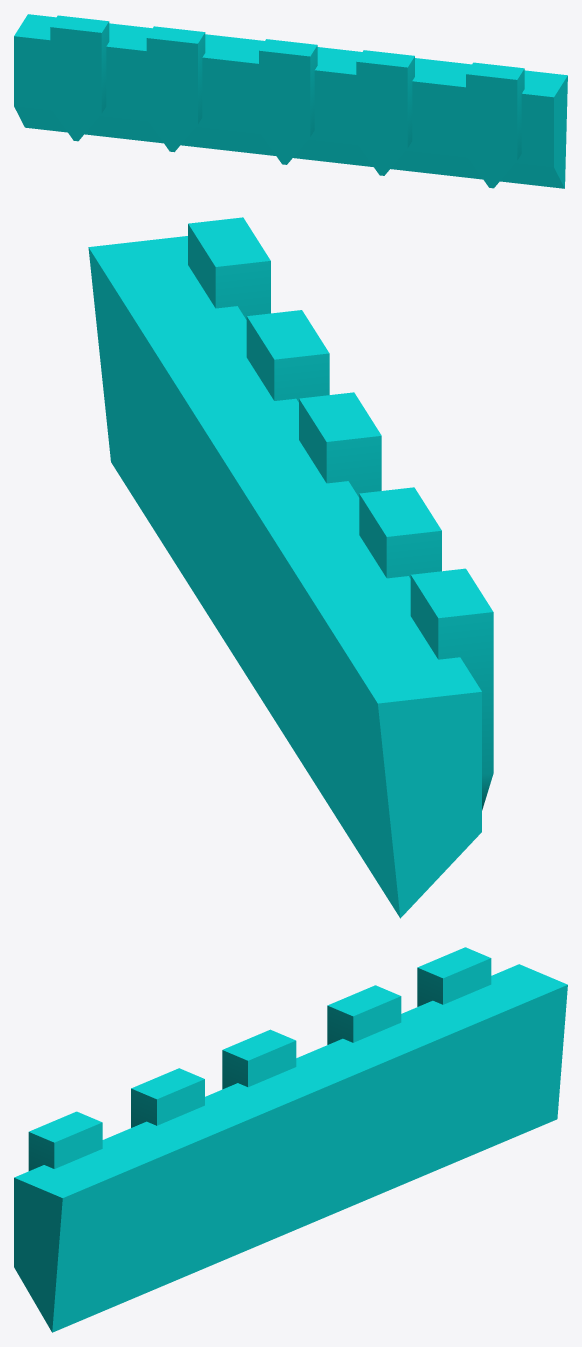
File: SM_Bld_45_Battlements_01_Collision.fbx
3 views of the same model, one above another, from view 1: azimuth 30°, elevation 25°; view 2: azimuth 150°, elevation 25°; view 3: azimuth 270°, elevation 25° (orthographic). The views are drawn at different scales.
Parts seen in each view (by area): view 1: SM_Bld_45_Battlements_01_Collision; view 2: SM_Bld_45_Battlements_01_Collision; view 3: SM_Bld_45_Battlements_01_Collision.
Boxes of the visible parts, x1,y1,x2,y2 form: SM_Bld_45_Battlements_01_Collision: (14,14,567,188); SM_Bld_45_Battlements_01_Collision: (88,217,493,918); SM_Bld_45_Battlements_01_Collision: (14,947,567,1332).
Bounding box in the file's own units: 561 × 185 × 561.
